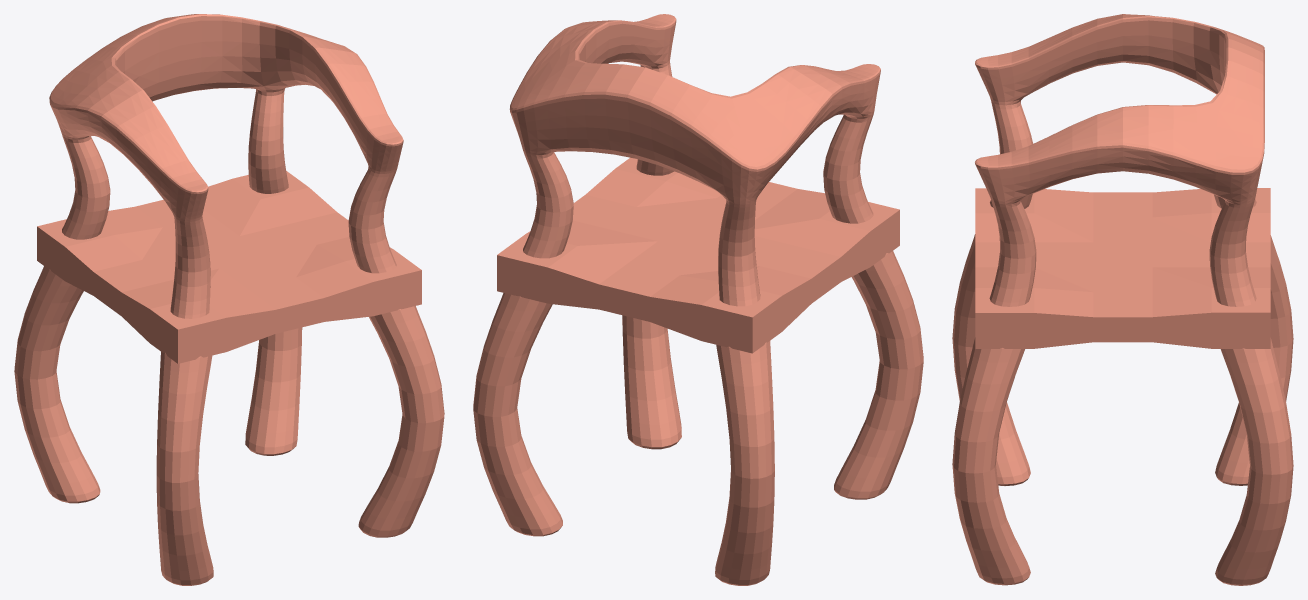
Rendered from chair_3_v000.glb.
3 views of the same model, side by side, from view 1: azimuth 30°, elevation 25°; view 2: azimuth 150°, elevation 25°; view 3: azimuth 270°, elevation 25° (orthographic). The views are drawn at different scales.
Visible parts, largest first — view 1: world; view 2: world; view 3: world.
Part boxes in pixels (x1,y1,x2,y2): world: (14,14,444,585); world: (473,14,923,585); world: (952,14,1293,585).
Size of the model in its own units: 0.1066 by 0.1653 by 0.1066.
